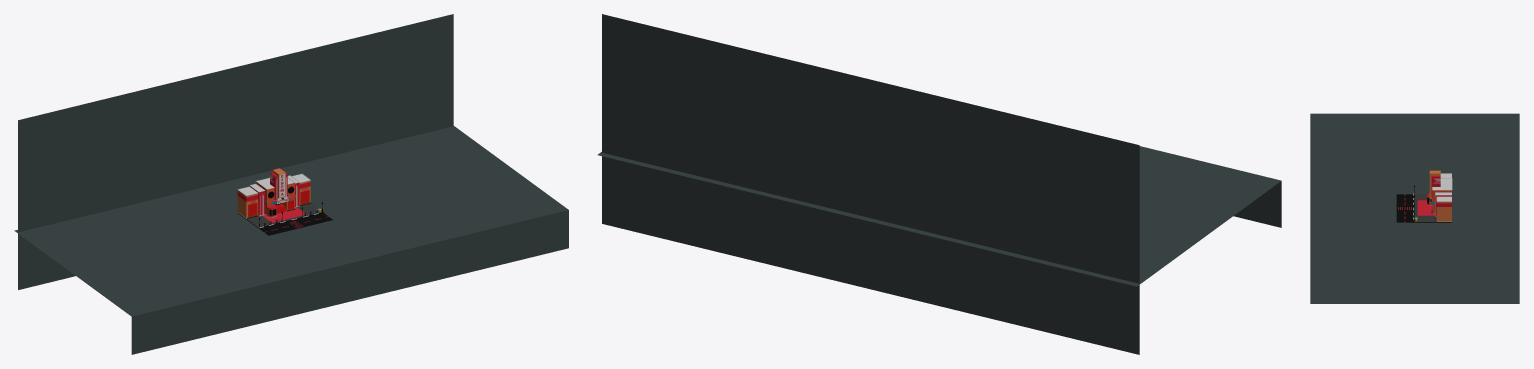
Rendered from Cinema_hall.obj.
3 views of the same model, side by side, from view 1: azimuth 30°, elevation 25°; view 2: azimuth 150°, elevation 25°; view 3: azimuth 270°, elevation 25° (orthographic). The views are drawn at different scales.
Visible parts, largest first — view 1: Plane, Plane.001, Plane.006, Cube.012, Cube.028, Plane.003; view 2: Plane.001, Plane; view 3: Plane, Plane.006, Cube.012, Plane.003, Cube.028, Plane.002.
Boxes of the visible parts, x1,y1,x2,y2 form: Plane: [14, 126, 568, 354]; Plane.001: [18, 14, 453, 289]; Plane.006: [238, 212, 332, 235]; Cube.012: [237, 173, 310, 195]; Cube.028: [237, 180, 310, 217]; Plane.003: [246, 203, 321, 227]; Plane.001: [602, 14, 1139, 354]; Plane: [597, 146, 1281, 286]; Plane: [1310, 113, 1519, 303]; Plane.006: [1396, 194, 1451, 222]; Cube.012: [1432, 173, 1452, 201]; Plane.003: [1414, 194, 1436, 221]; Cube.028: [1436, 201, 1451, 221]; Plane.002: [1417, 200, 1435, 215].
Size of the model in its own units: 27.52 by 10.22 by 12.8.
